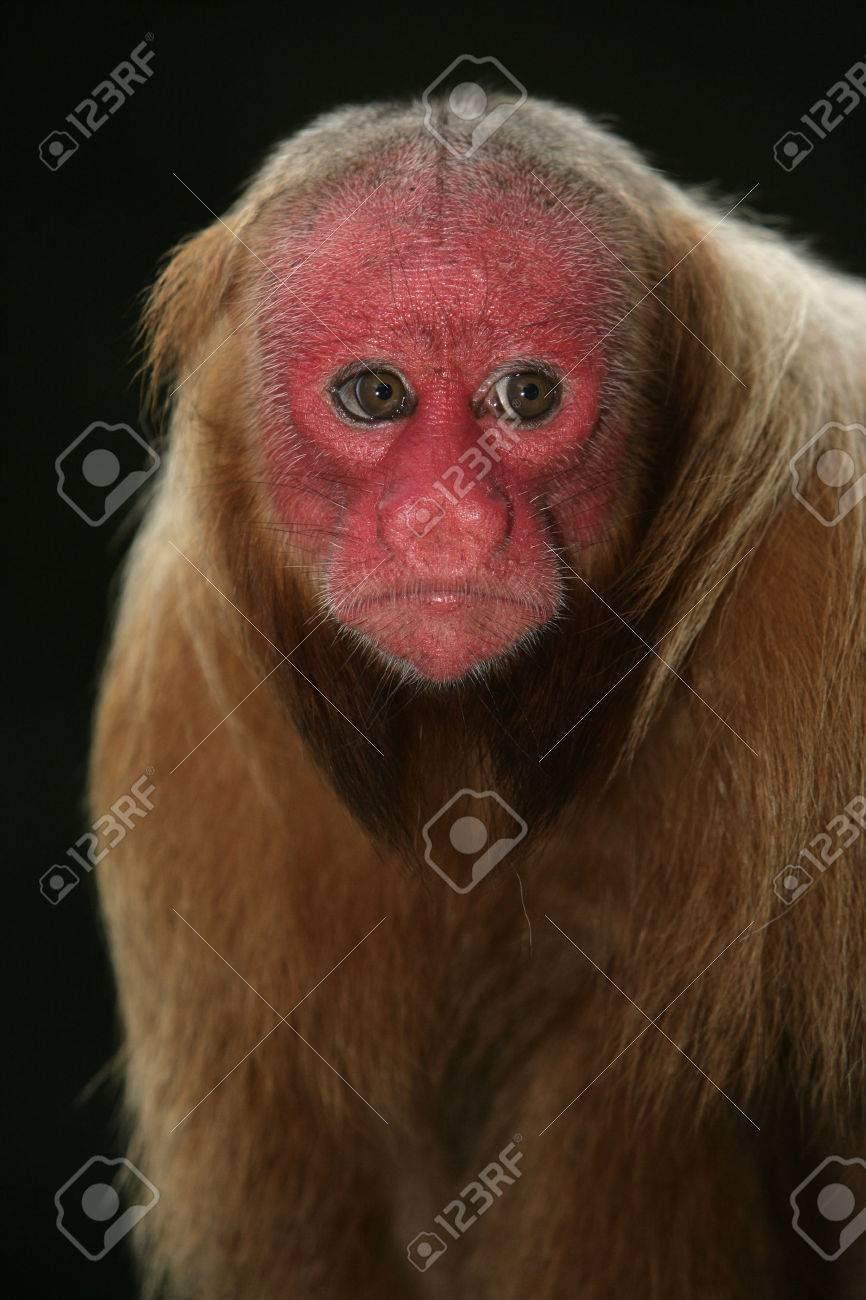monkey: (86, 65, 866, 1300)
